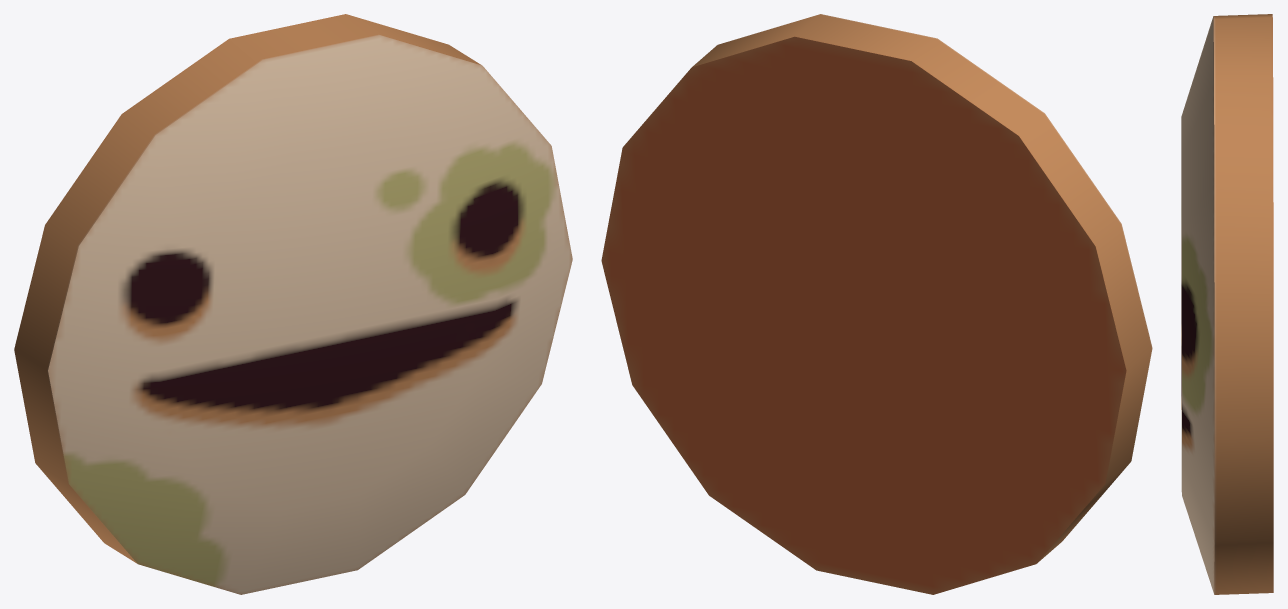
Rendered from mouchouMask.FBX.
3 renders of one model, left to right at view 1: azimuth 30°, elevation 25°; view 2: azimuth 150°, elevation 25°; view 3: azimuth 270°, elevation 25°, orthographic.
Parts seen in each view (by area): view 1: mouchouMask; view 2: mouchouMask; view 3: mouchouMask.
Part boxes in pixels (bbox=[...]): mouchouMask: bbox=[14, 14, 572, 594]; mouchouMask: bbox=[601, 14, 1152, 594]; mouchouMask: bbox=[1181, 14, 1273, 594].
Size of the model in its own units: 41.93 by 40.4 by 6.44.
